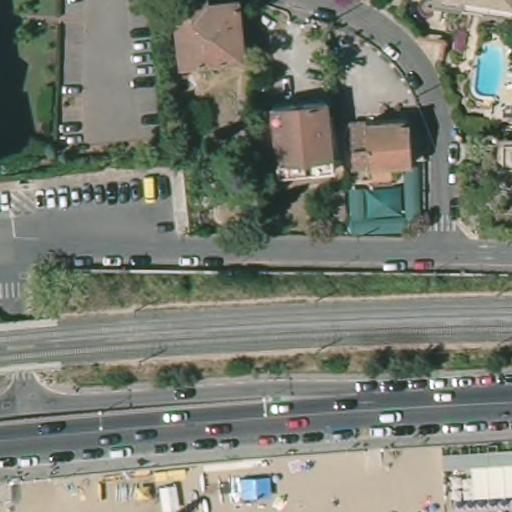pool: (470, 42, 507, 101)
